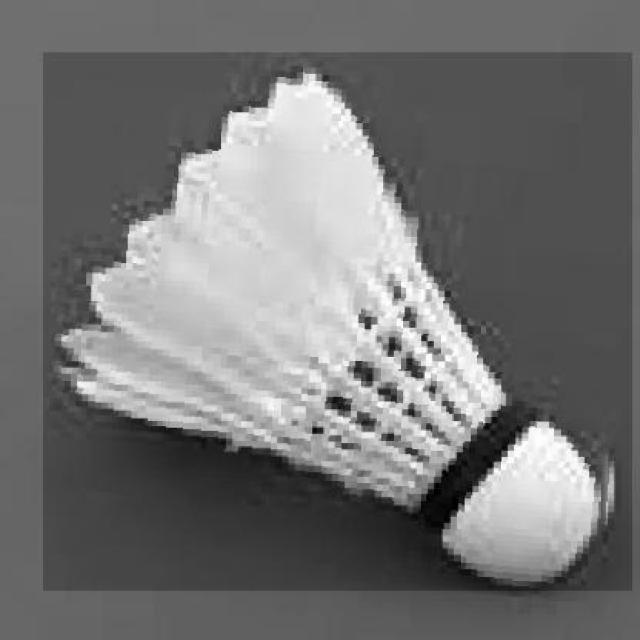Shuttlecock: (43, 52, 632, 591)
